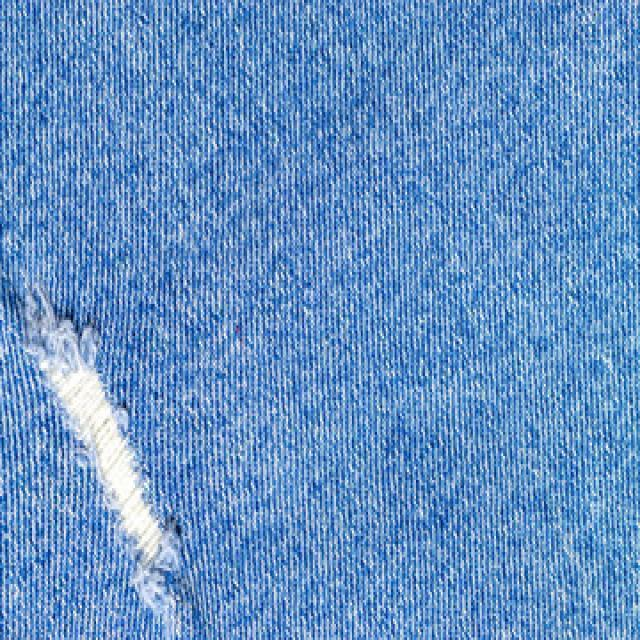Hole: (18, 288, 192, 640)
